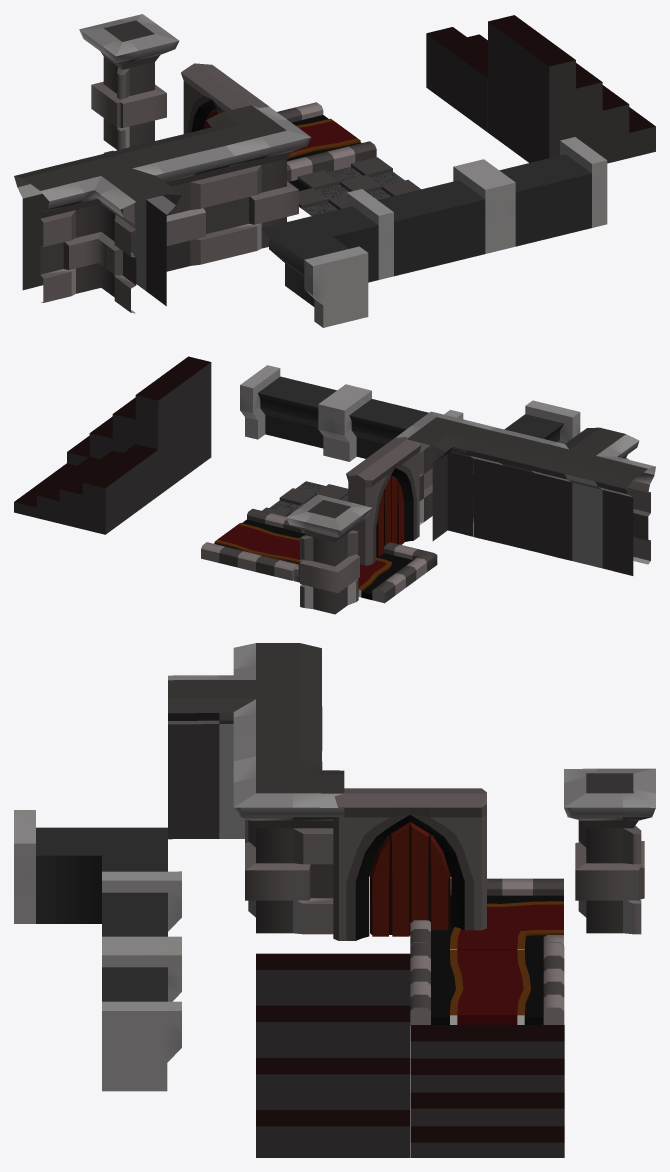
File: Modules.fbx
The picture shows the model from 3 angles, top to bottom: view 1: azimuth 30°, elevation 25°; view 2: azimuth 150°, elevation 25°; view 3: azimuth 270°, elevation 25°; orthographic projection. The views are drawn at different scales.
Visible parts, largest first — view 1: esquina001, Stairs, CornerWall, Wall, esquina, Midwall, Midwall2, esquina002, Stairs2, Box012, Tiles, Door; view 2: esquina001, Wall, Stairs, Stairs2, esquina002, esquina, Midwall, Door, Box012, Midwall2, Box013, CornerWall (+3 smaller); view 3: Stairs, Stairs2, esquina, esquina001, Door, CornerWall, esquina002, Box012, Midwall, Box013, Wall, Doorleft (+2 smaller).
Part boxes in pixels (left/top/right/bottom): esquina001: left=14, top=155, right=181, bottom=313; Stairs: left=488, top=15, right=655, bottom=163; CornerWall: left=261, top=189, right=393, bottom=327; Wall: left=96, top=130, right=234, bottom=271; esquina: left=200, top=105, right=311, bottom=257; Midwall: left=469, top=137, right=607, bottom=249; Midwall2: left=377, top=163, right=500, bottom=276; esquina002: left=79, top=14, right=179, bottom=150; Stairs2: left=426, top=27, right=487, bottom=132; Box012: left=277, top=102, right=376, bottom=181; Tiles: left=289, top=157, right=420, bottom=215; Door: left=181, top=63, right=269, bottom=133; esquina001: left=534, top=427, right=655, bottom=575; Wall: left=466, top=427, right=568, bottom=558; Stairs: left=67, top=356, right=211, bottom=495; Stairs2: left=14, top=444, right=158, bottom=534; esquina002: left=286, top=494, right=371, bottom=614; esquina: left=396, top=411, right=495, bottom=540; Midwall: left=240, top=365, right=358, bottom=458; Door: left=346, top=437, right=421, bottom=565; Box012: left=201, top=508, right=306, bottom=580; Midwall2: left=331, top=387, right=428, bottom=461; Box013: left=293, top=542, right=437, bottom=603; CornerWall: left=444, top=400, right=580, bottom=443; Stairs: left=256, top=953, right=410, bottom=1157; Stairs2: left=410, top=1025, right=564, bottom=1157; esquina: left=233, top=756, right=344, bottom=934; esquina001: left=168, top=643, right=321, bottom=839; Door: left=333, top=788, right=486, bottom=940; CornerWall: left=14, top=810, right=181, bottom=931; esquina002: left=564, top=768, right=655, bottom=934; Box012: left=410, top=942, right=564, bottom=1025; Midwall: left=102, top=946, right=181, bottom=1091; Box013: left=410, top=878, right=563, bottom=952; Wall: left=233, top=697, right=322, bottom=842; Doorleft: left=370, top=822, right=410, bottom=936.
Size of the model in its own units: 404 by 70.55 by 292.
